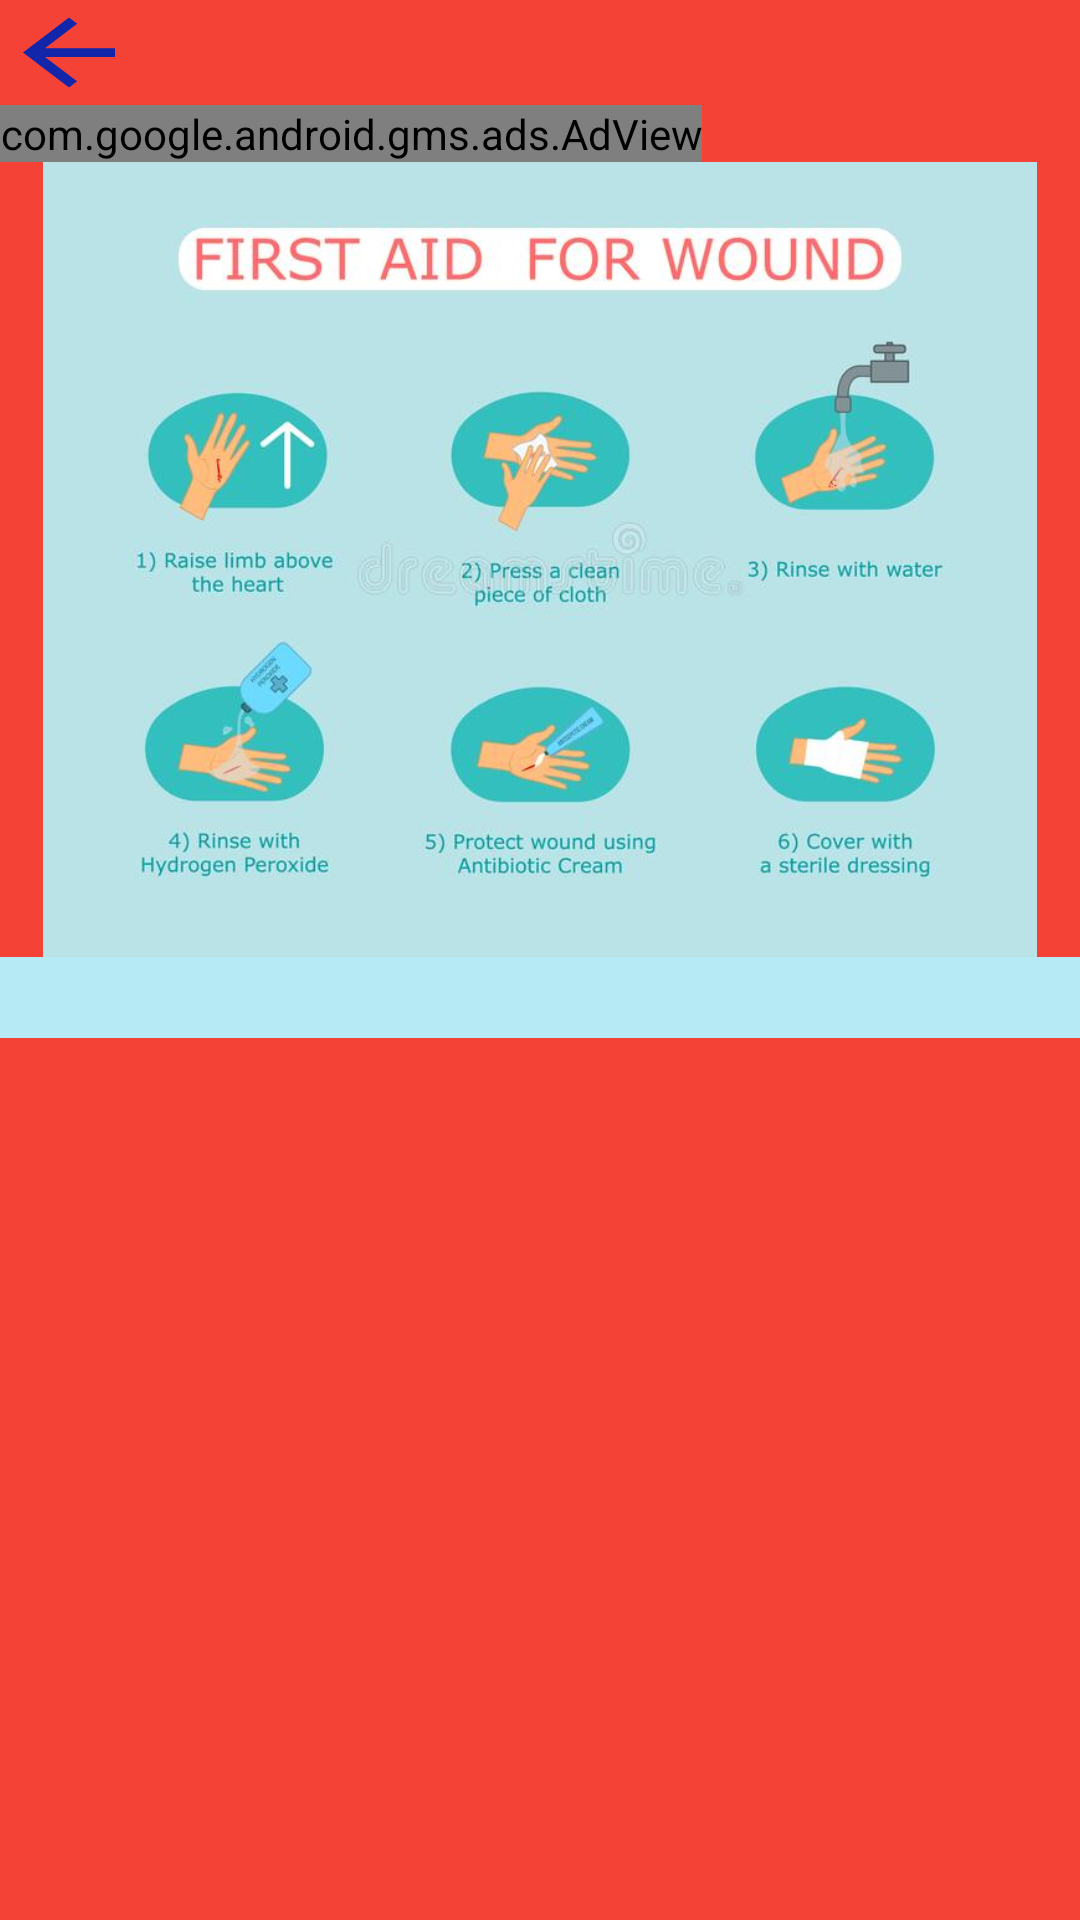

Where to tap for icons on this 1080 × 1920 app screen, as (x=x, y=y):
backarroww: (x=69, y=52)
